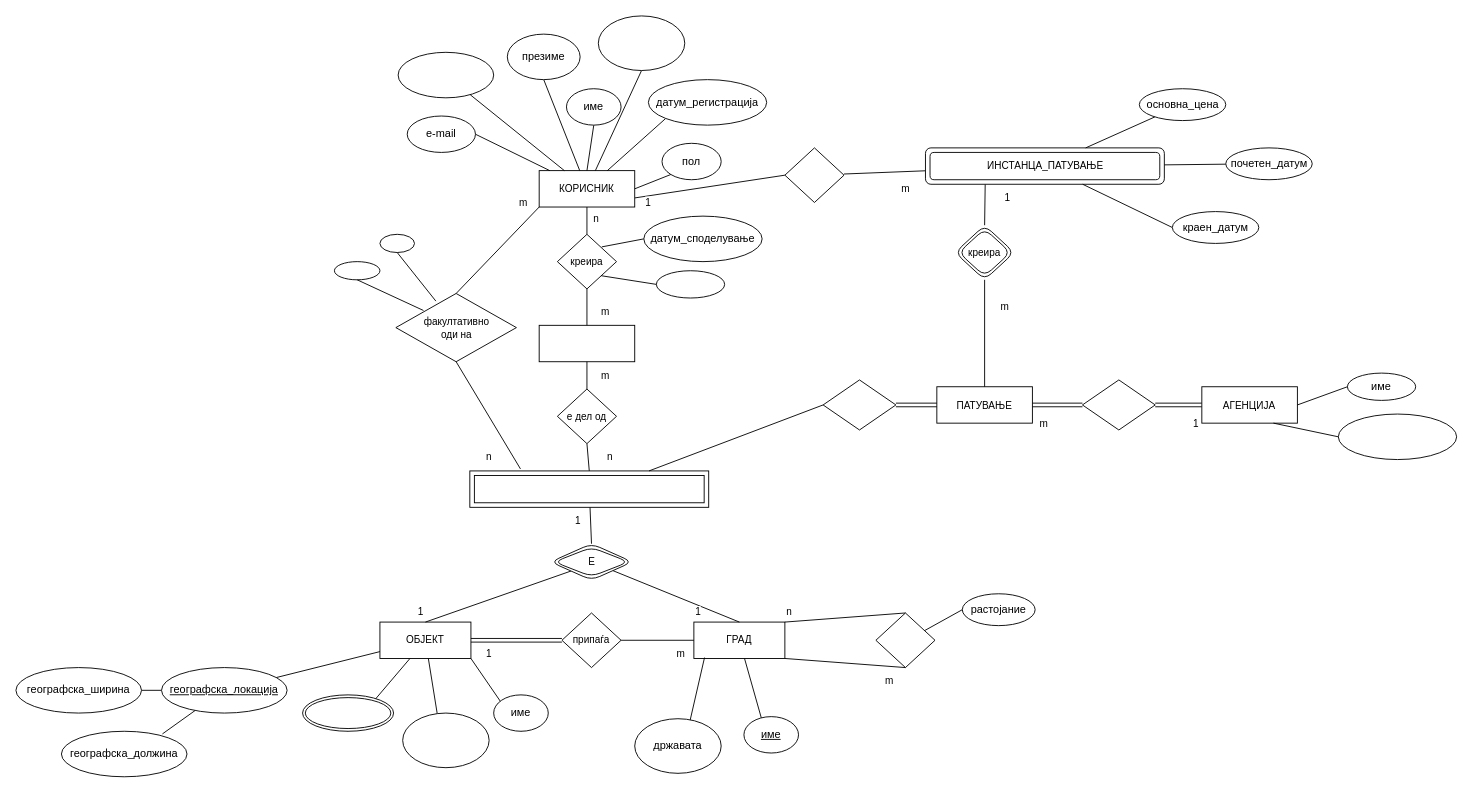
Image size: 1473x804. Some labels were removed from this diagram. The centre of each missing label's shape, as x and y in pixels:
адреса: the point at 445,740
датум: the point at 357,270
датум_раѓање: the point at 641,43
коментар: the point at 690,284
корисничко_име: the point at 445,74
ЛИСТА: the point at 586,343
локација: the point at 1397,436
оди на: the point at 814,174
организира: the point at 1118,404
посета: the point at 859,404
сосед: the point at 905,640
тип: the point at 348,712
ТУРИСТИЧКО_МЕСТО: the point at 589,488
цена: the point at 397,243
